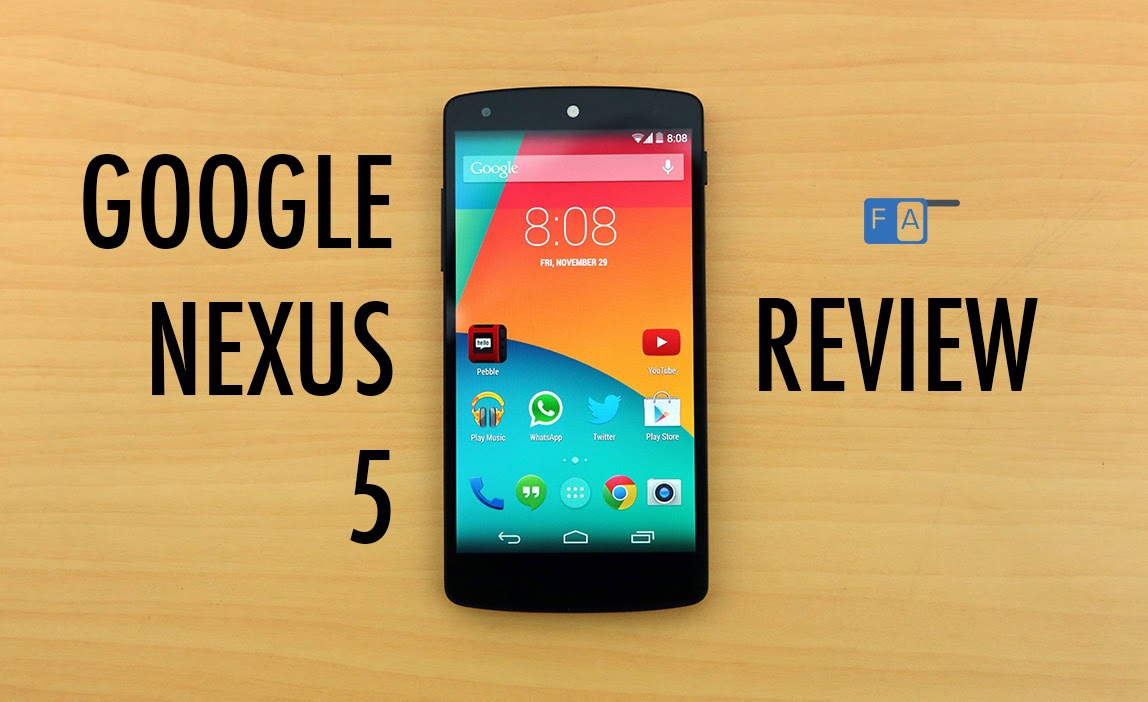smartphone: (440, 85, 710, 612)
